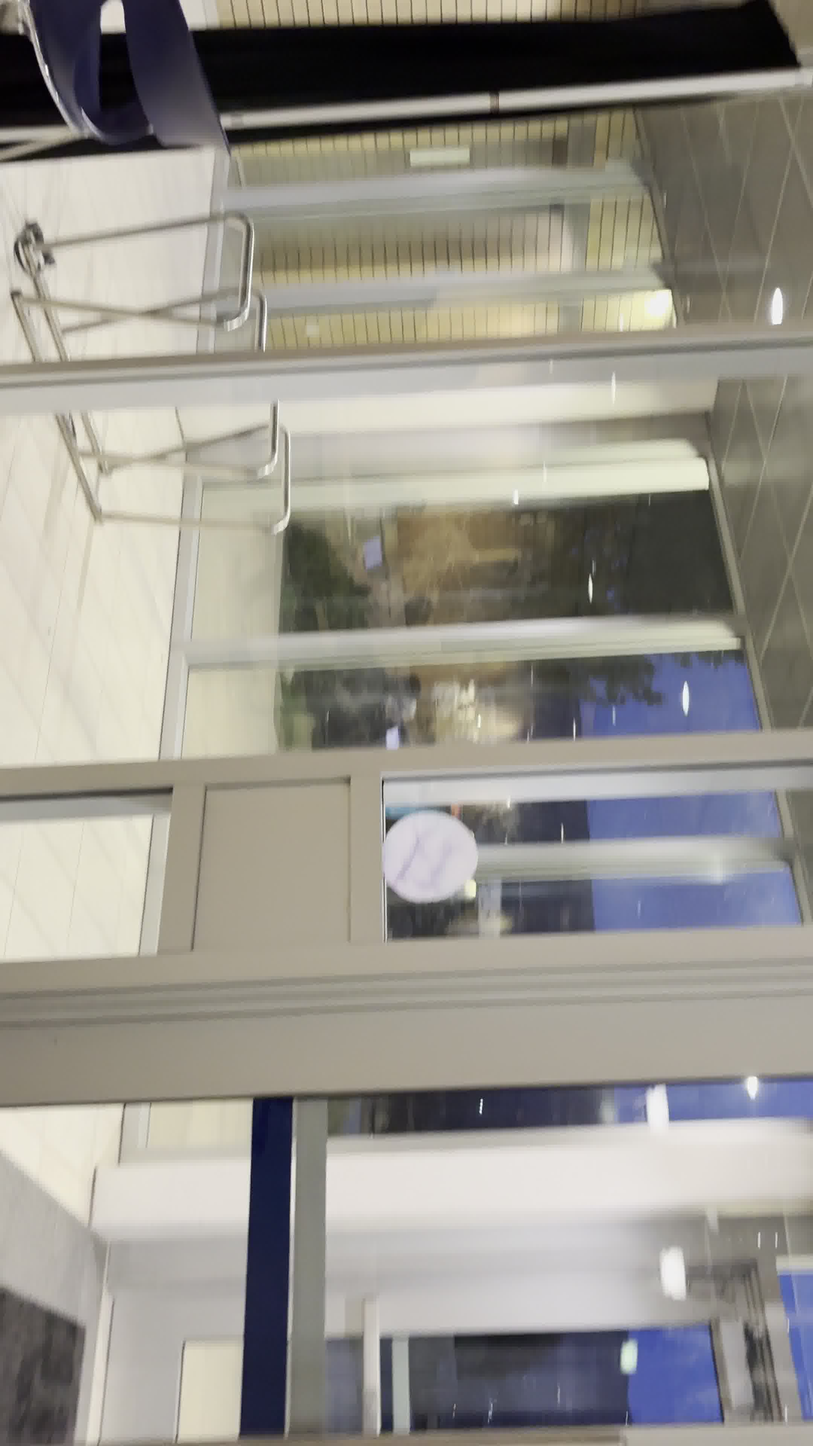Target: (379, 809, 480, 906)
